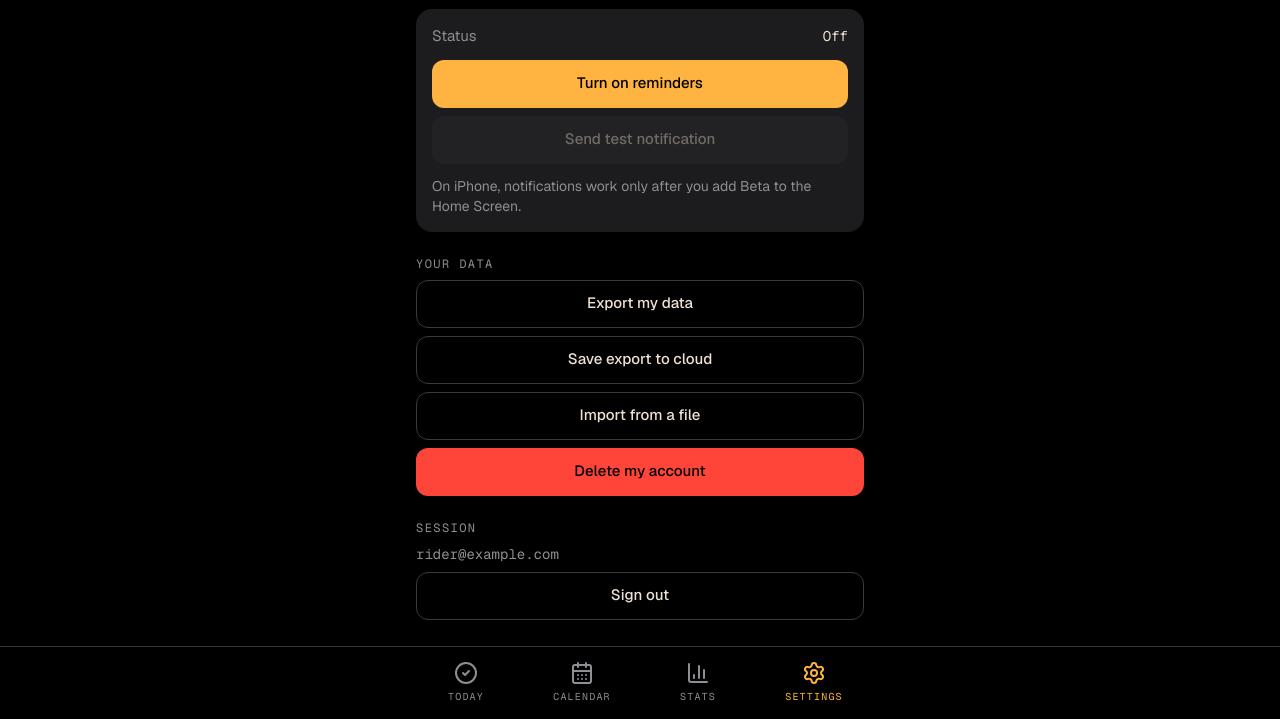
Scenario: Settings › cloud export › says so and turns the button off when the server has no bucket
(page scrolled)
What coordinates should you click on to do the following:
click the 4th button named "Save export to cloud"
I would click on:
 (640, 360)
Its box is [416,336,864,384].
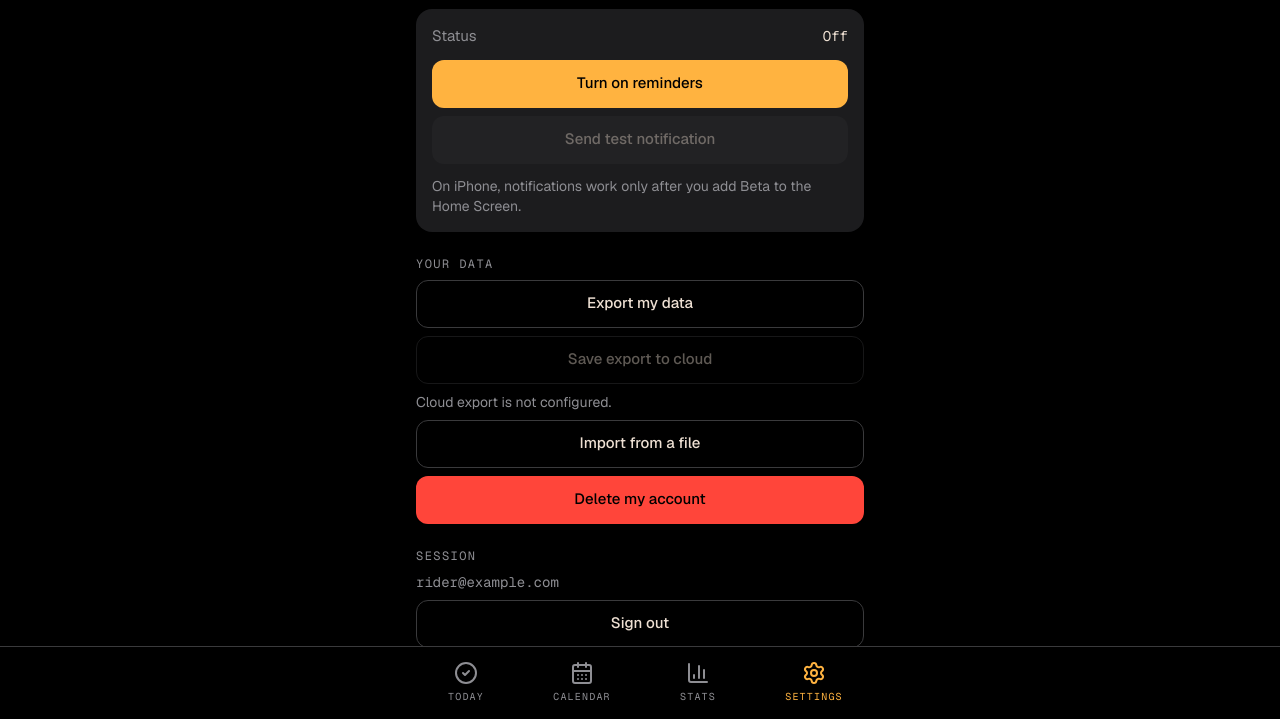
Now the text "Cloud export is not configured." is shown, box [416,392,611,410]
Now the 4th button named "Save export to cloud" is disabled, box [416,336,864,384]
